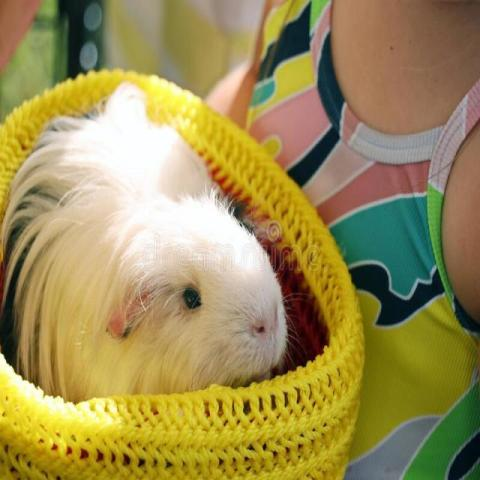small_animal: (0, 80, 296, 403)
